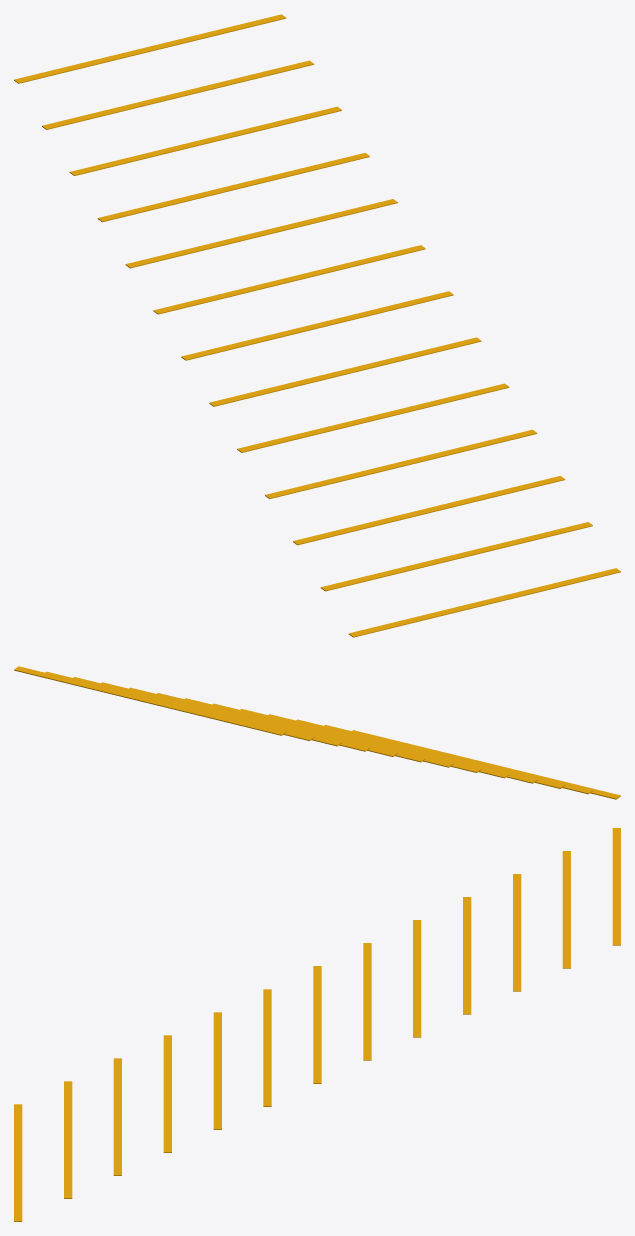
File: gteki_ik_stair_n13_r168_t330_w1845_nosing.glb
3 renders of one model, top to bottom at view 1: azimuth 30°, elevation 25°; view 2: azimuth 150°, elevation 25°; view 3: azimuth 270°, elevation 25°, orthographic. The views are drawn at different scales.
Parts seen in each view (by area): view 1: VIS_body; view 2: VIS_body; view 3: VIS_body.
Part boxes in pixels (x1,y1,x2,y2): VIS_body: (14, 14, 620, 637); VIS_body: (14, 666, 620, 799); VIS_body: (14, 828, 620, 1221).
Bounding box in the file's own units: 1.83 × 2.02 × 4.02.
1 material, 1 textured.
